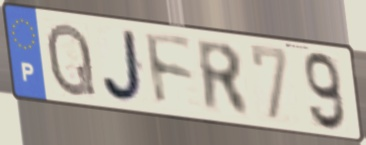7: (247, 42, 295, 126)
9: (301, 49, 348, 133)
F: (141, 29, 196, 110)
J: (99, 27, 148, 105)
Q: (45, 20, 99, 100)
R: (193, 37, 254, 120)
